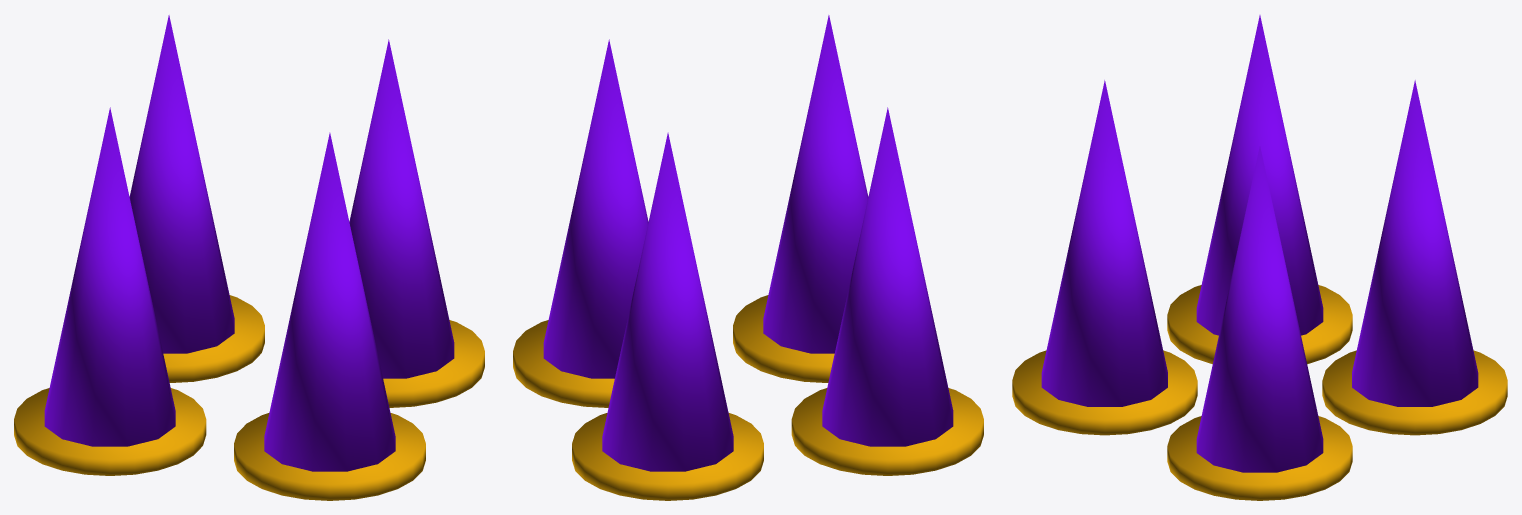
The model's file is Only_One_Spike.fbx.
The picture shows the model from 3 angles, left to right: view 1: azimuth 30°, elevation 25°; view 2: azimuth 150°, elevation 25°; view 3: azimuth 270°, elevation 25°; orthographic projection. The views are drawn at different scales.
Visible parts, largest first — view 1: spikes, spikes floor; view 2: spikes, spikes floor; view 3: spikes, spikes floor.
Part boxes in pixels (x1,y1,x2,y2): spikes: [44, 15, 454, 471]; spikes floor: [14, 295, 484, 500]; spikes: [543, 15, 953, 471]; spikes floor: [513, 295, 983, 500]; spikes: [1041, 15, 1478, 472]; spikes floor: [1012, 285, 1507, 500].
Size of the model in its own units: 208 by 147 by 208.
